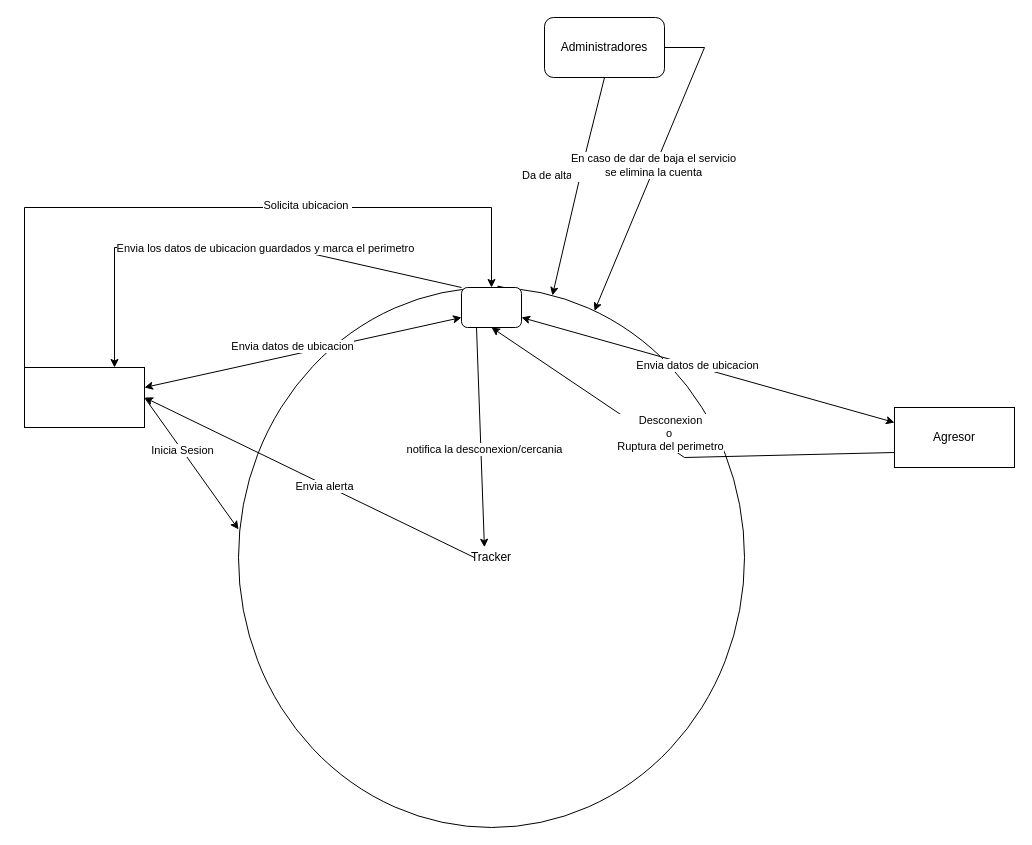
This 1032x845 diagram has some shape labels left out. The shapes that lost their labels are listed below. From the top down, each one's centre as x and y in pixels, then its label:
point (491, 307): Firebase
point (84, 397): Victima
